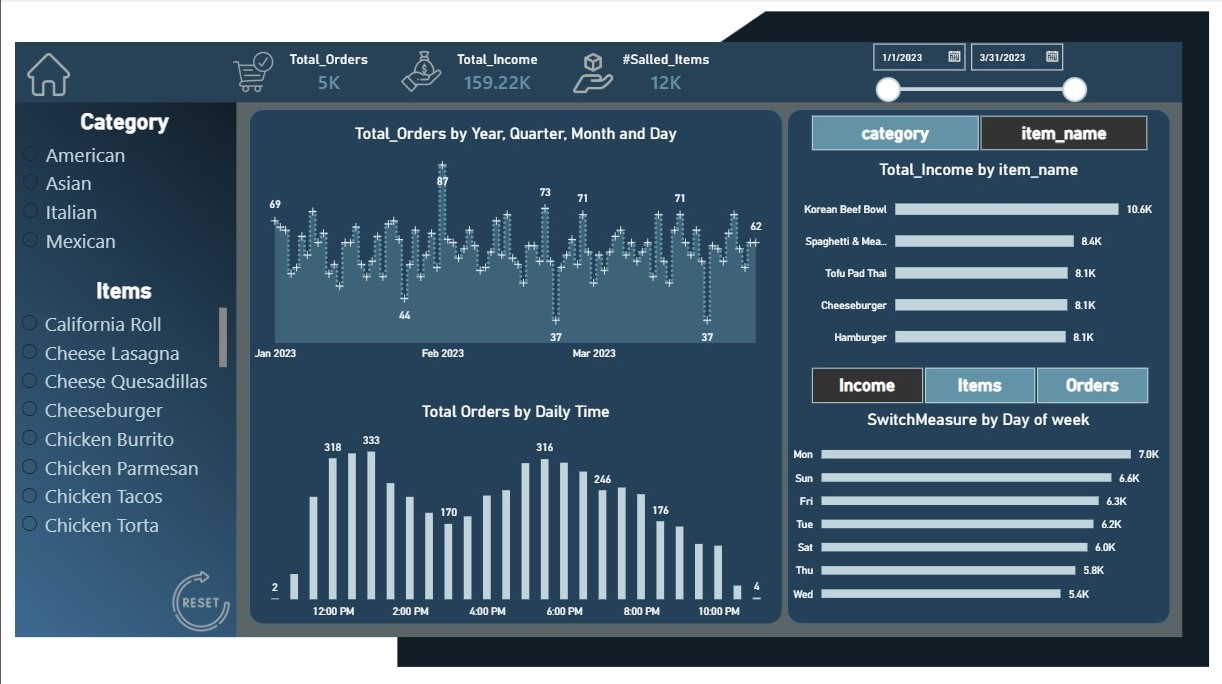

Layout of this report page (visuals, bound fields, positions):
{"tool":"powerbi","page":{"name":"Details Page","canvas":[1280,720],"ordinal":1},"visuals":[{"type":"shape","box":[821.6,114.9,400.2,537.6],"z":0},{"type":"shape","box":[259.9,114.8,556.9,537.8],"z":1000},{"type":"clusteredColumnChart","title":"Total Orders by Daily Time","fields":{"Category":["order_details(Fact table).order_time (bins)"],"Y":["Measures Table.Total_Orders"]},"box":[259.6,420.2,556.8,231.9],"z":2000},{"type":"areaChart","fields":{"Category":["Date Table.Date.Variation.Date Hierarchy.Year","Date Table.Date.Variation.Date Hierarchy.Quarter","Date Table.Date.Variation.Date Hierarchy.Month","Date Table.Date.Variation.Date Hierarchy.Day"],"Y":["Measures Table.Total_Orders"]},"box":[259.6,130.6,556.8,253.5],"z":3000},{"type":"cardVisual","fields":{"Data":["Measures Table.Total_Orders","Measures Table.Total_Income","Measures Table.#Salled_Items"]},"box":[241.7,9.2,556.1,134.7],"z":4000},{"type":"image","box":[418.7,51.5,42.3,48.9],"z":6000},{"type":"image","box":[598.4,52.8,42.3,48],"z":7000},{"type":"slicer","fields":{"Values":["Products.Products"]},"box":[821,114.9,400.2,50],"z":8000},{"type":"barChart","fields":{"Category":["menu_items(dim table).item_name"],"Y":["Measures Table.Total_Income"]},"box":[820.8,168.3,400,210],"z":9000},{"type":"slicer","fields":{"Values":["MeasureSelection.MeasureColum"]},"box":[821.2,378,400.5,50.6],"z":10000},{"type":"barChart","fields":{"Category":["Date Table.Day of week"],"Y":["MeasureSelection.SwitchMeasure"]},"box":[821.2,428.6,399.4,211.5],"z":11000},{"type":"slicer","fields":{"Values":["Date Table.Date"]},"box":[898.9,36,244.1,78.8],"z":12000},{"type":"listSlicer","title":"Items","fields":{"Values":["menu_items(dim table).item_name"]},"box":[16.6,290.7,225.7,280.5],"z":13000},{"type":"listSlicer","title":"Category","fields":{"Values":["menu_items(dim table).category"]},"box":[18,114.8,225,166.5],"z":14000},{"type":"image","box":[176.6,597.4,66.4,63],"z":14001},{"type":"image","box":[28.1,55.1,45,46.1],"z":14002},{"type":"image","box":[243,51.8,41.6,48.4],"z":14003}]}

Visuals, with their boxes in screenshot pixels (x1, y1, x2, y2), scaled from the page's 1280x720 canvas onto the 1222x684 screenshot:
shape: select_region(784, 109, 1166, 620)
shape: select_region(248, 109, 780, 620)
"Total Orders by Daily Time" clusteredColumnChart: select_region(248, 399, 779, 619)
areaChart - Date Table.Date.Variation.Date Hierarchy.Year x Date Table.Date.Variation.Date Hierarchy.Quarter: select_region(248, 124, 779, 365)
cardVisual - Measures Table.Total_Orders x Measures Table.Total_Income: select_region(231, 9, 762, 137)
image: select_region(400, 49, 440, 95)
image: select_region(571, 50, 612, 96)
slicer - Products.Products: select_region(784, 109, 1166, 157)
barChart - menu_items(dim table).item_name x Measures Table.Total_Income: select_region(784, 160, 1165, 359)
slicer - MeasureSelection.MeasureColum: select_region(784, 359, 1166, 407)
barChart - Date Table.Day of week x MeasureSelection.SwitchMeasure: select_region(784, 407, 1165, 608)
slicer - Date Table.Date: select_region(858, 34, 1091, 109)
"Items" listSlicer: select_region(16, 276, 231, 543)
"Category" listSlicer: select_region(17, 109, 232, 267)
image: select_region(169, 568, 232, 627)
image: select_region(27, 52, 70, 96)
image: select_region(232, 49, 272, 95)
